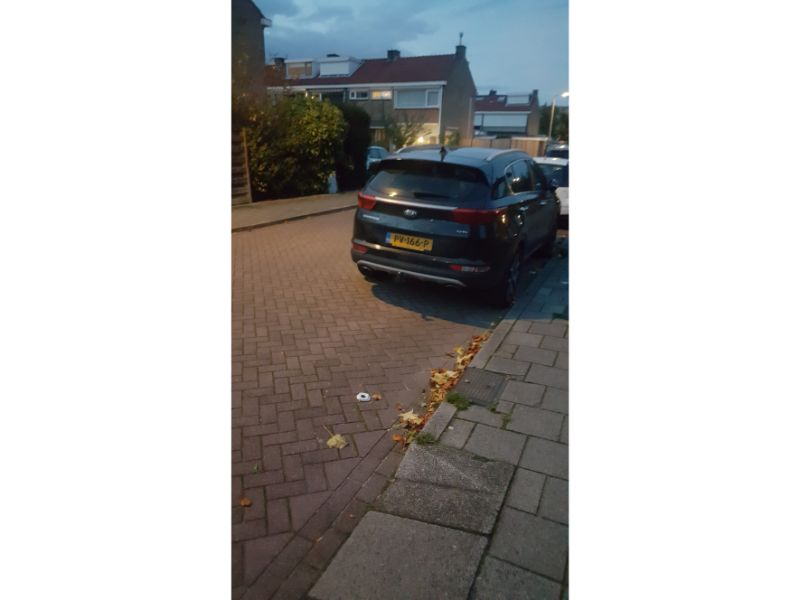kenteken: (383, 231, 434, 253)
